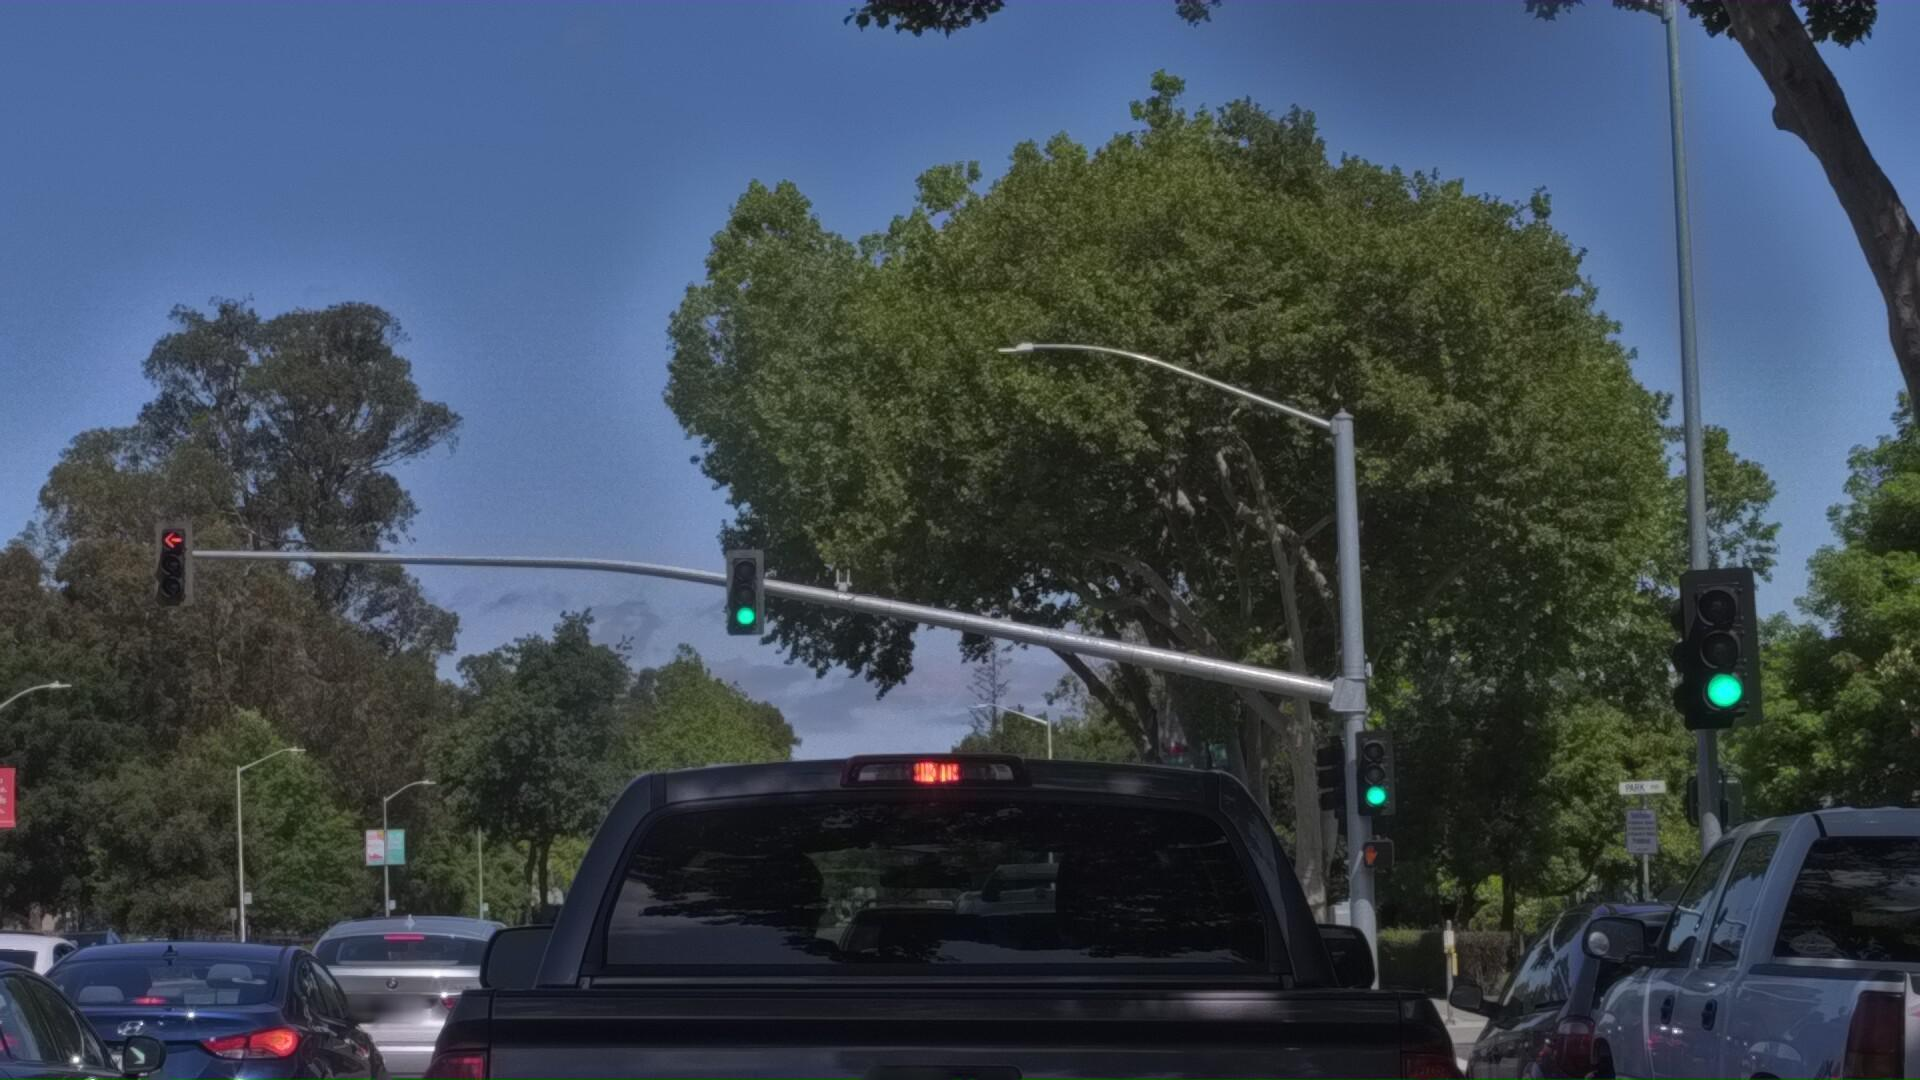car: (332, 495, 1648, 1080), (1506, 760, 1920, 1080), (885, 866, 1387, 1080), (1403, 886, 1920, 1080), (0, 951, 422, 1080), (278, 938, 591, 1080), (0, 949, 251, 1080), (0, 936, 146, 1080)
